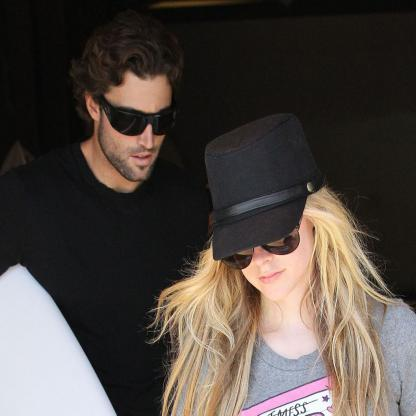face: (224, 188, 307, 302), (104, 76, 167, 184)
